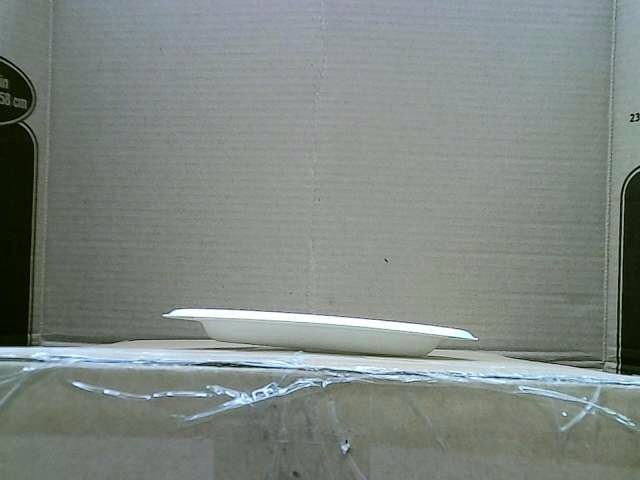Plate: (159, 306, 477, 355)
